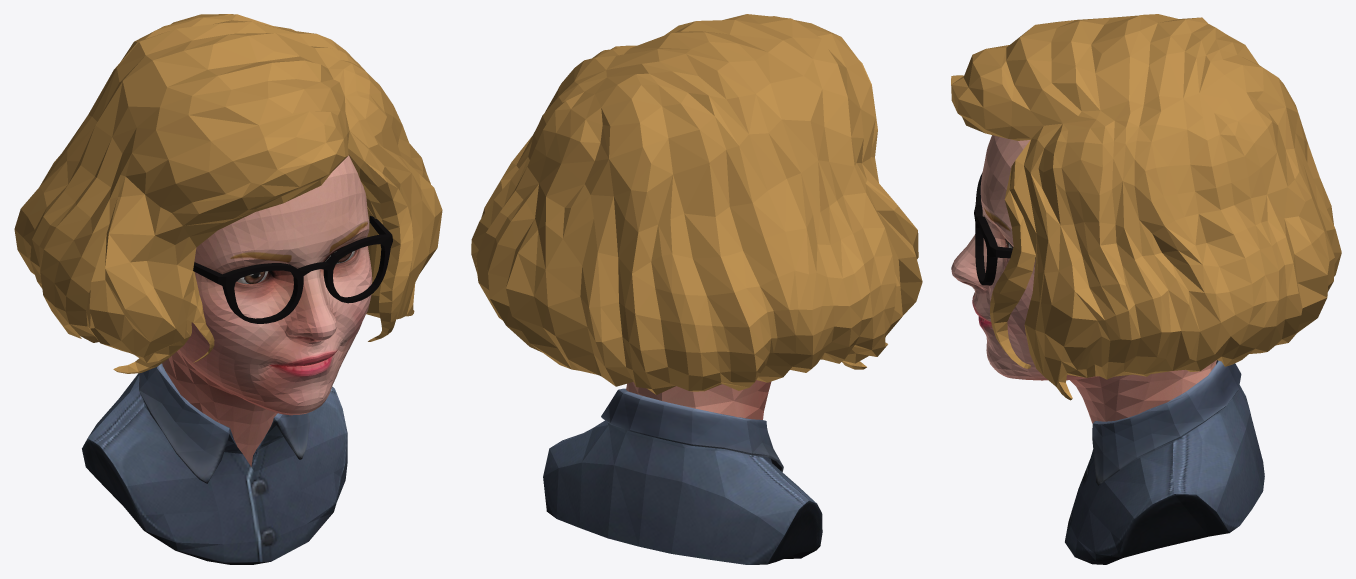
Rendered from rosma.bf981bac.glb.
The picture shows the model from 3 angles, left to right: view 1: azimuth 30°, elevation 25°; view 2: azimuth 150°, elevation 25°; view 3: azimuth 270°, elevation 25°; orthographic projection. The views are drawn at different scales.
Size of the model in its own units: 0.2837 by 0.3747 by 0.2571.
6 materials, 3 textured.
